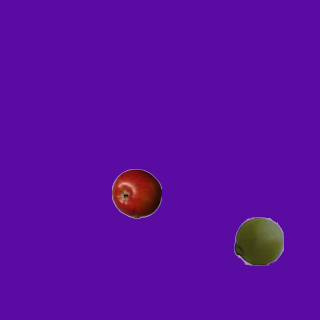Apple Braeburn: (111, 168, 161, 218)
Grape White 4: (233, 215, 283, 265)
